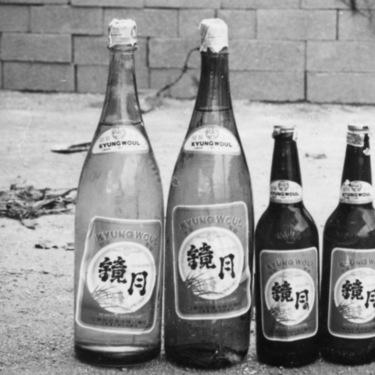soju: (71, 16, 375, 365)
